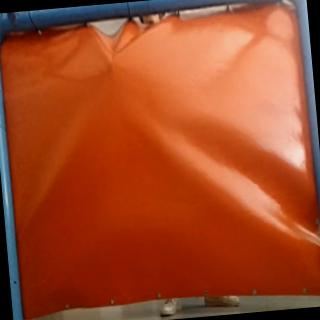Hit-hRxx: (101, 54, 117, 68)
